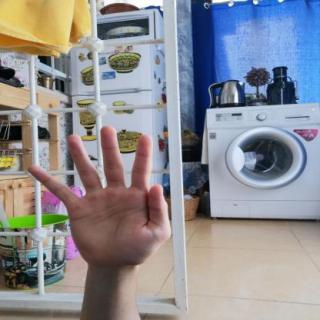SHEEN: (20, 120, 182, 272)
